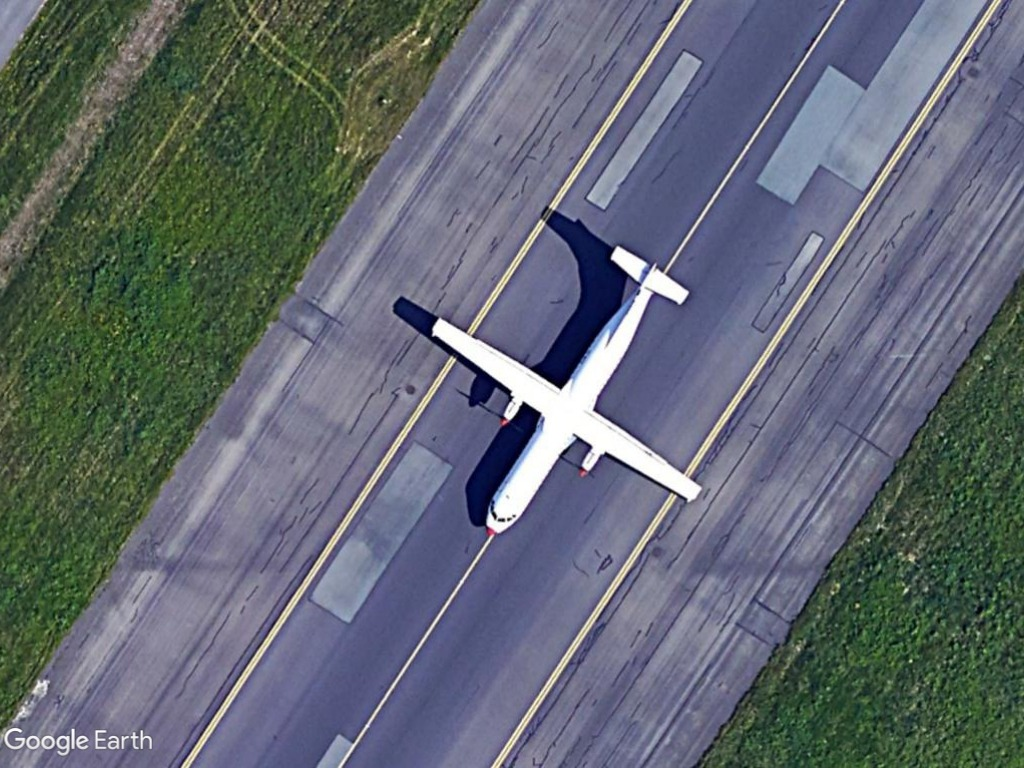propeller: (425, 238, 712, 545)
